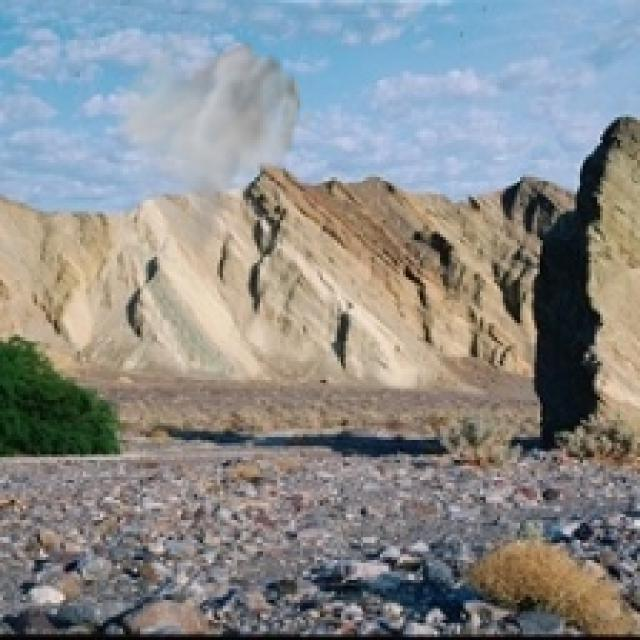Smoke: (108, 20, 320, 263)
